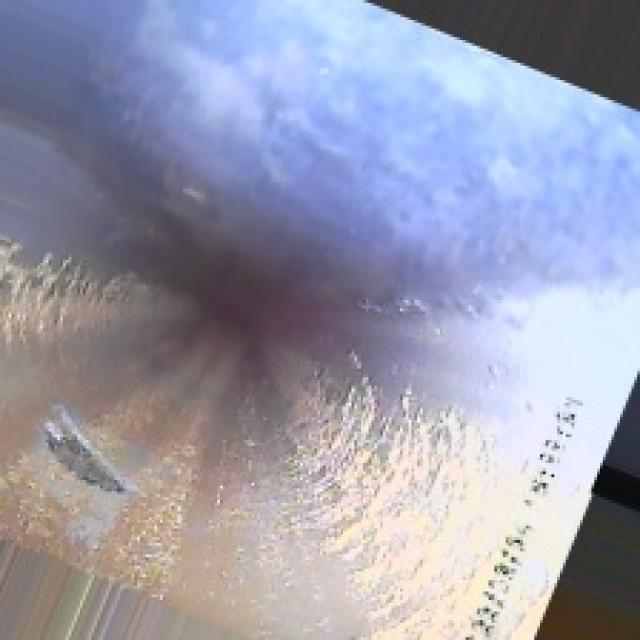pipe_surface_damage: (32, 394, 132, 497)
